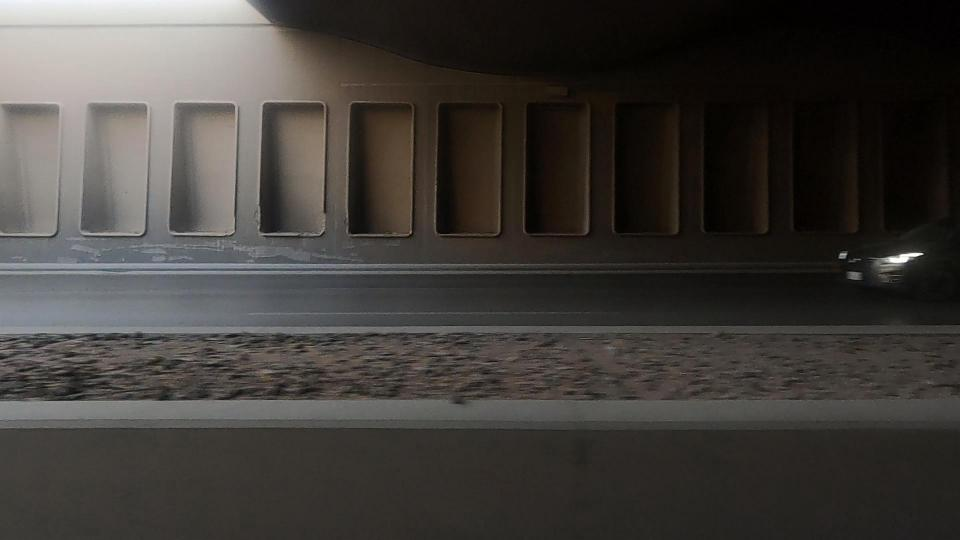CLUTTER_SIDEWALK: (0, 274, 447, 443), (259, 304, 867, 416)
